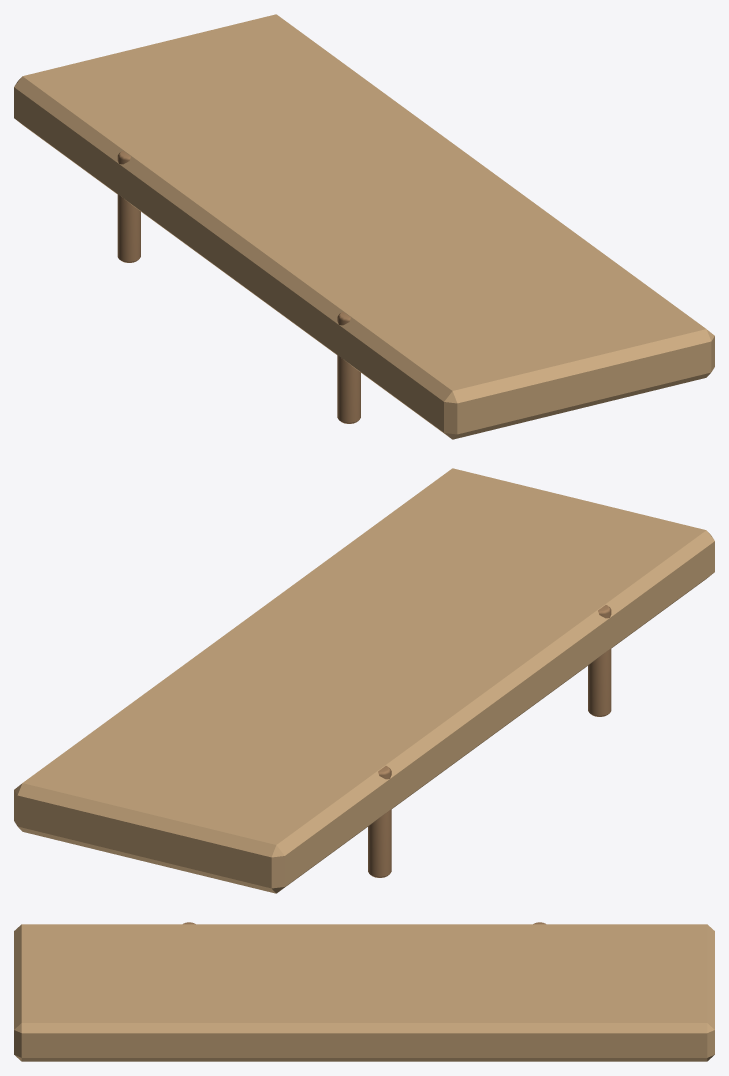
3 renders of one model, top to bottom at view 1: azimuth 30°, elevation 25°; view 2: azimuth 150°, elevation 25°; view 3: azimuth 270°, elevation 25°, orthographic. The views are drawn at different scales.
Visible parts, largest first — view 1: LOD2_FISHING_PIER_SHORT_Deck, LOD2_FISHING_PIER_SHORT_Pile_01, LOD2_FISHING_PIER_SHORT_Pile_02; view 2: LOD2_FISHING_PIER_SHORT_Deck, LOD2_FISHING_PIER_SHORT_Pile_02, LOD2_FISHING_PIER_SHORT_Pile_01; view 3: LOD2_FISHING_PIER_SHORT_Deck.
Part boxes in pixels (x1,y1,x2,y2): LOD2_FISHING_PIER_SHORT_Deck: [14, 14, 714, 439]; LOD2_FISHING_PIER_SHORT_Pile_01: [337, 312, 360, 423]; LOD2_FISHING_PIER_SHORT_Pile_02: [117, 151, 140, 262]; LOD2_FISHING_PIER_SHORT_Deck: [14, 468, 714, 893]; LOD2_FISHING_PIER_SHORT_Pile_02: [368, 766, 391, 877]; LOD2_FISHING_PIER_SHORT_Pile_01: [588, 605, 611, 716]; LOD2_FISHING_PIER_SHORT_Deck: [14, 924, 714, 1061].
Size of what is drawn, in the model's own units: 3.2 by 1.21 by 9.
